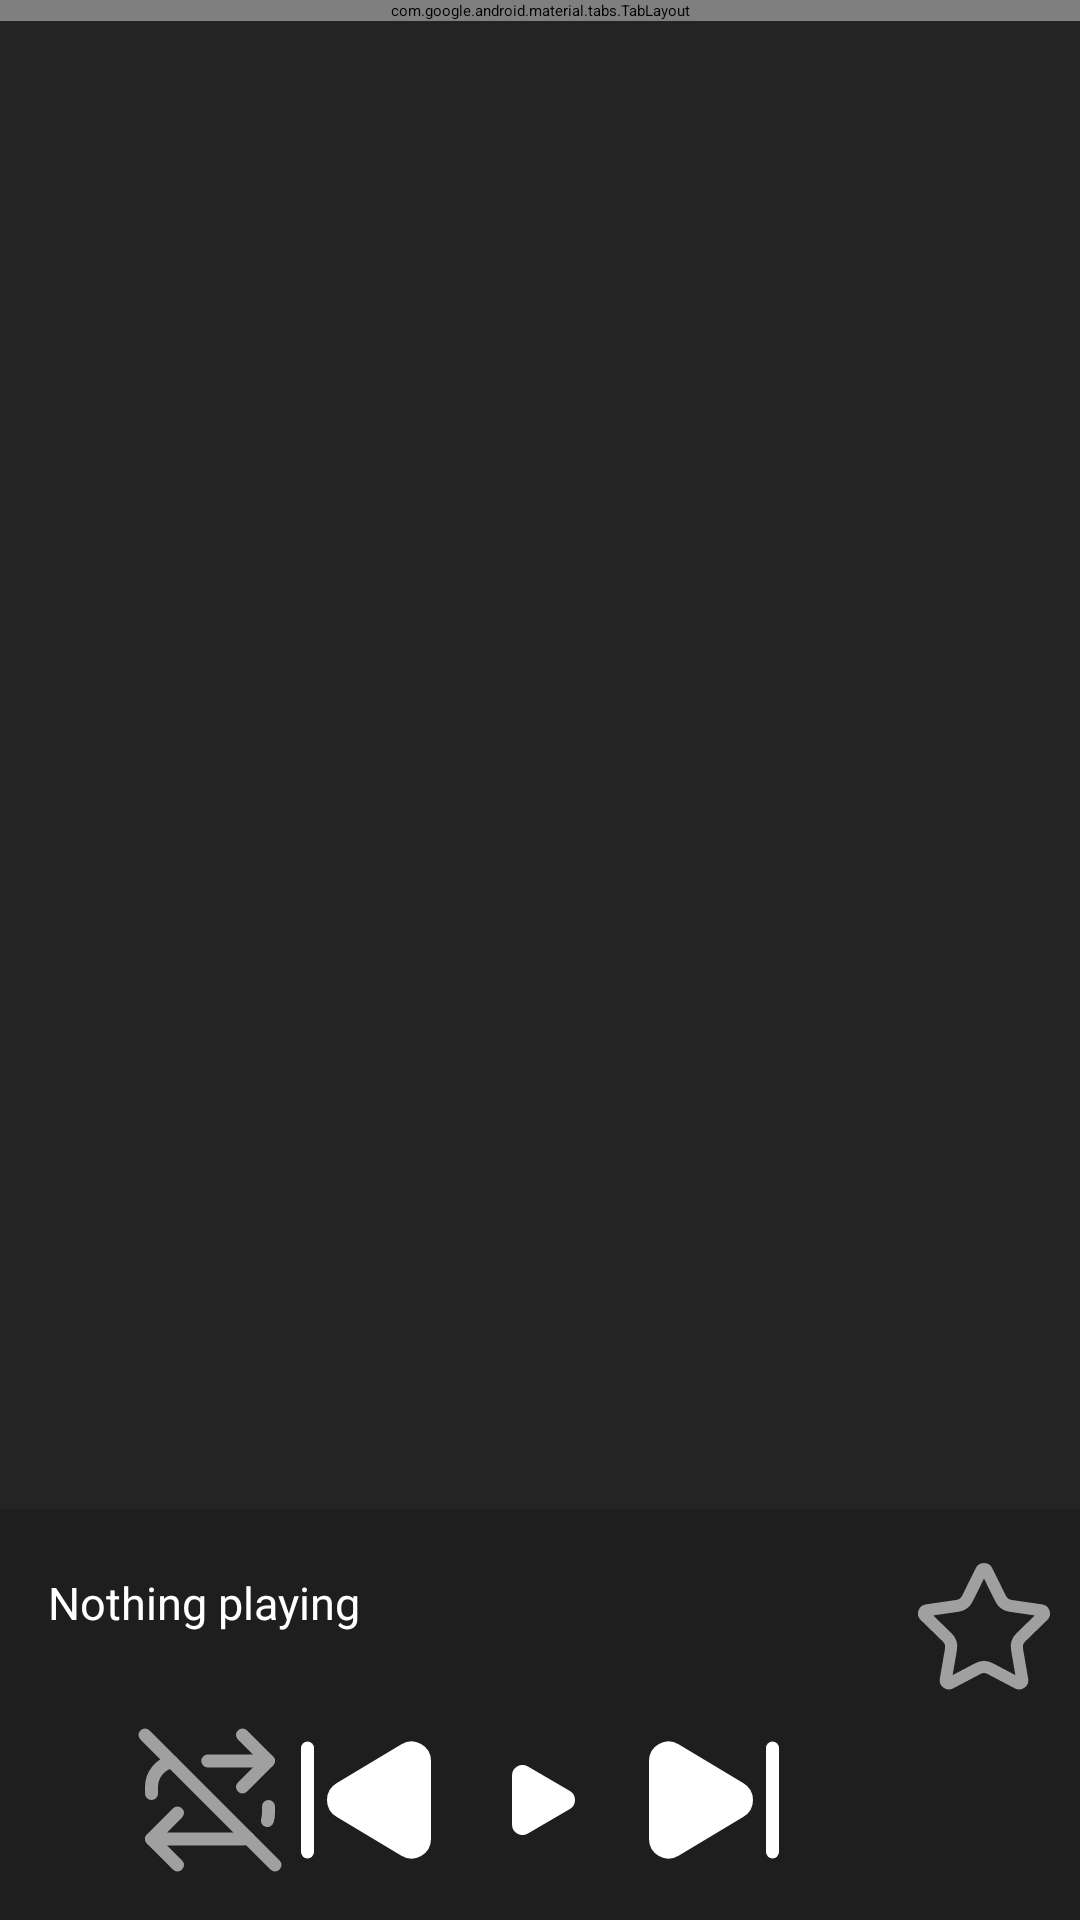

Where to tap for icons on this 1080px x 1920px app screen, as [x,y]:
Favourite: [984,1626]
Next: [714,1800]
Playback mode: [210,1800]
Previous: [366,1800]
